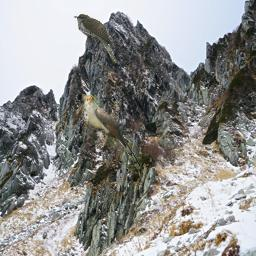Cuckoo: (84, 94, 142, 169), (73, 14, 117, 64)
